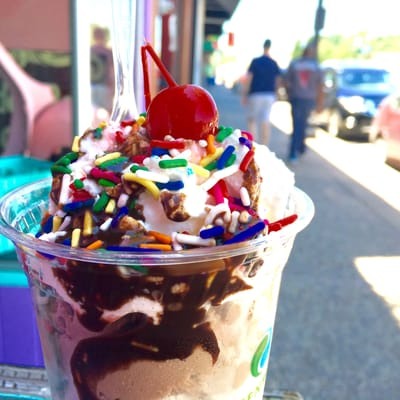pasta: (0, 39, 74, 161)
soup: (0, 98, 297, 399)
sushi: (1, 87, 299, 396)
